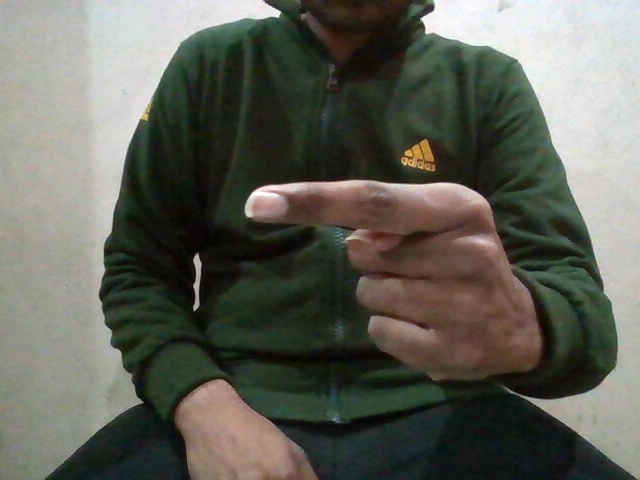G: (242, 177, 539, 374)
